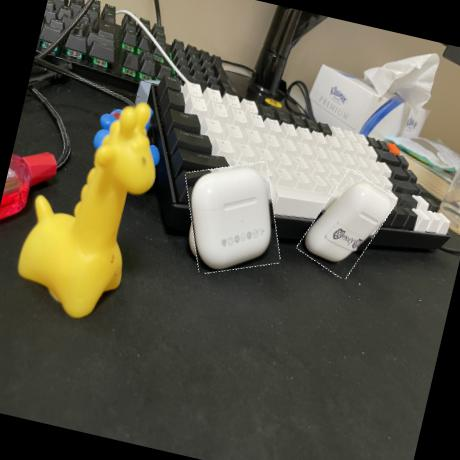airpod2: (299, 166, 394, 282)
airpod3: (172, 152, 293, 284)
